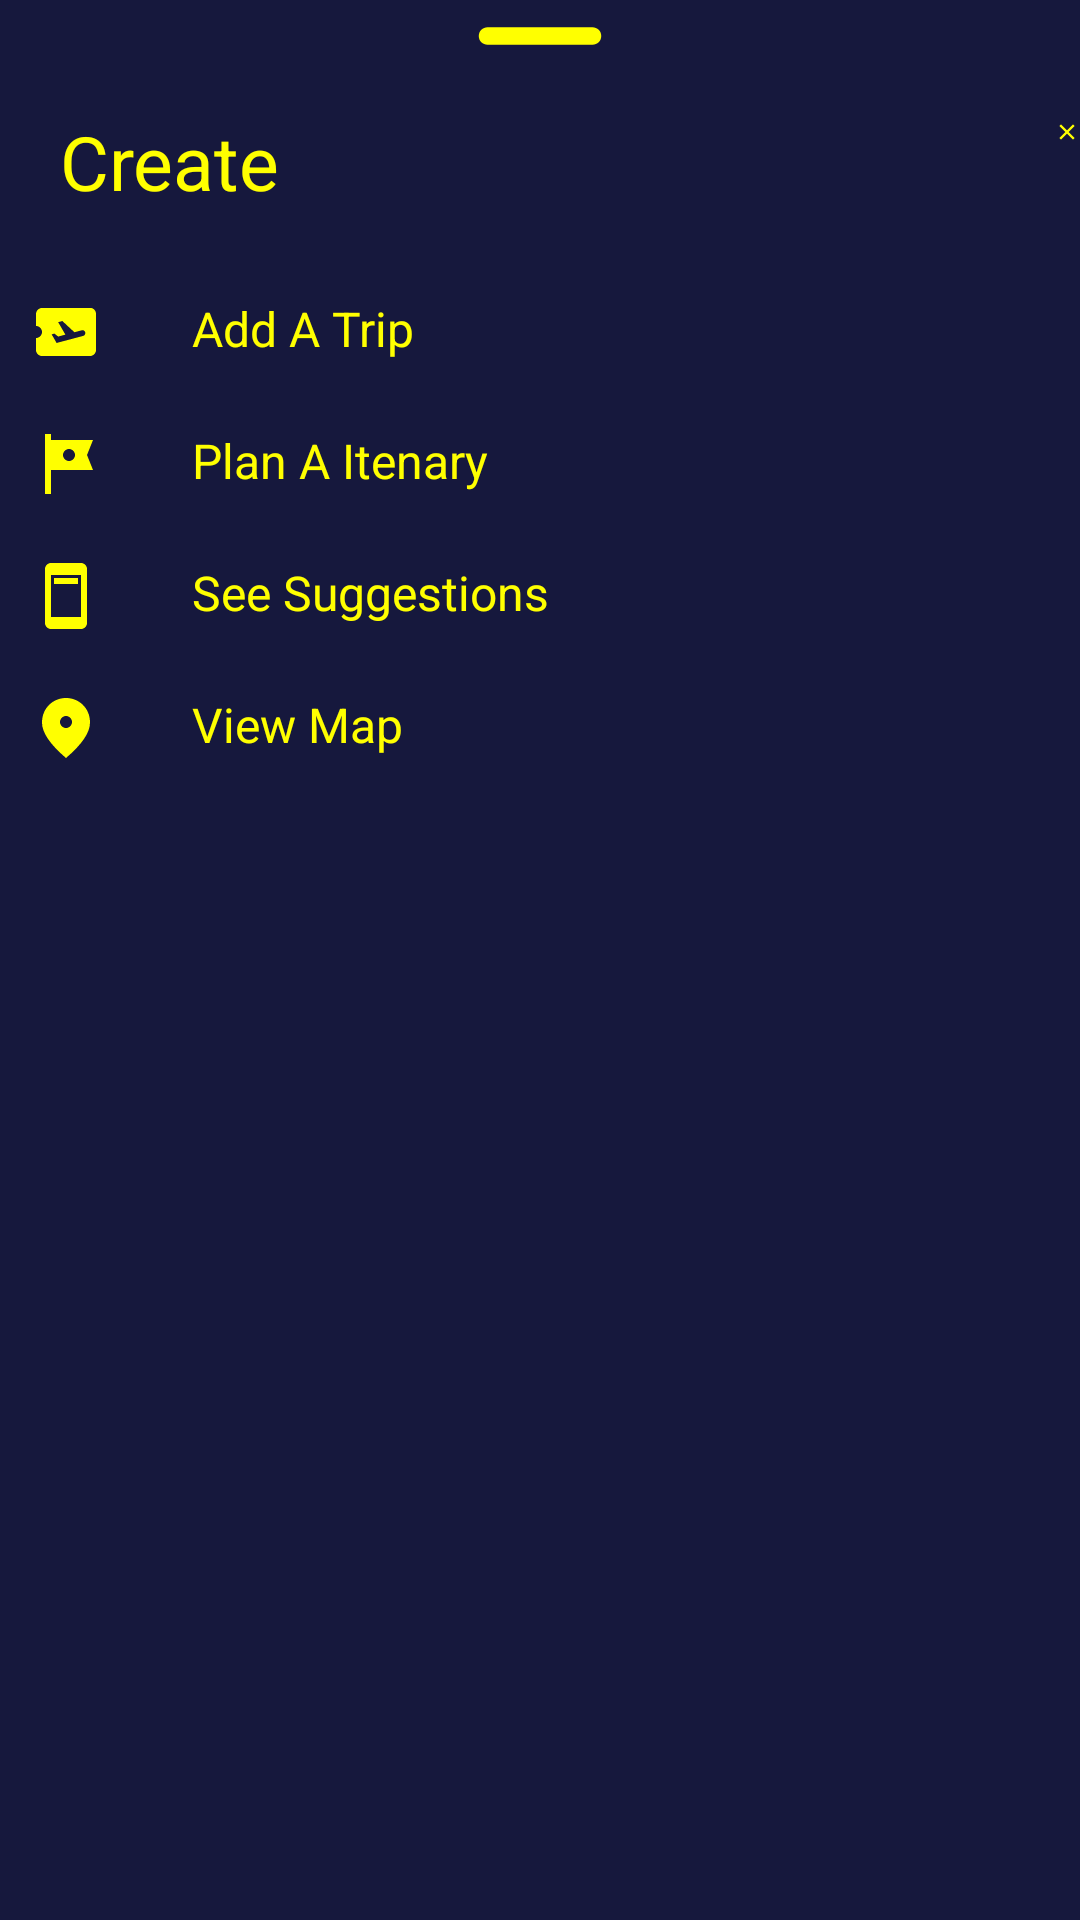

Screen size 1080 × 1920. Icon name, then its center in pixels as [x,y]:
location: [66,728]
tour: [69,464]
